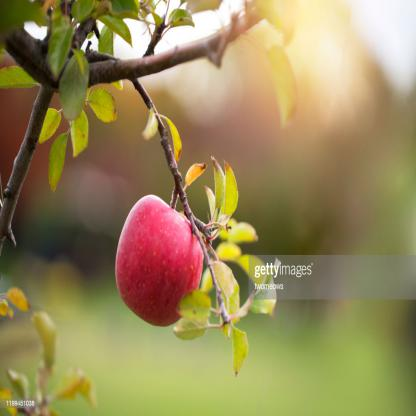Apple: (113, 181, 215, 331)
